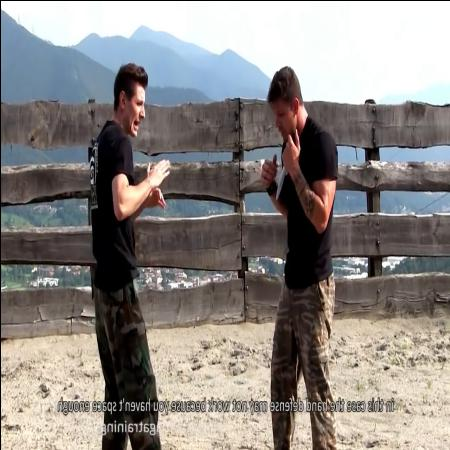long weapon: (274, 140, 298, 206)
